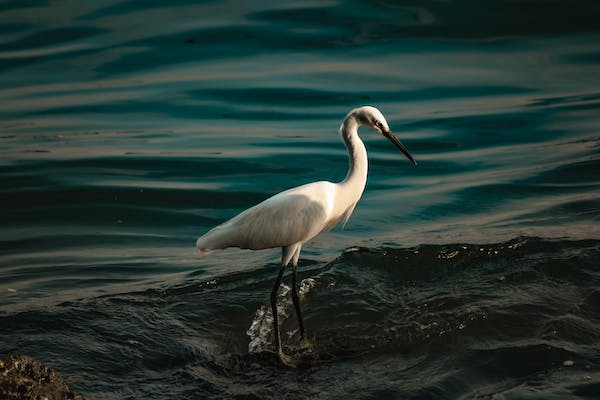Walking: (188, 49, 453, 389)
